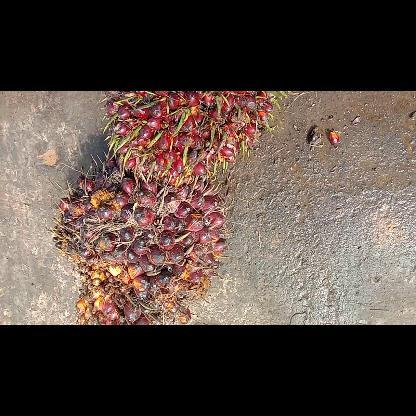Kurang masak: (102, 90, 280, 192)
TBS masak: (52, 156, 228, 324)
